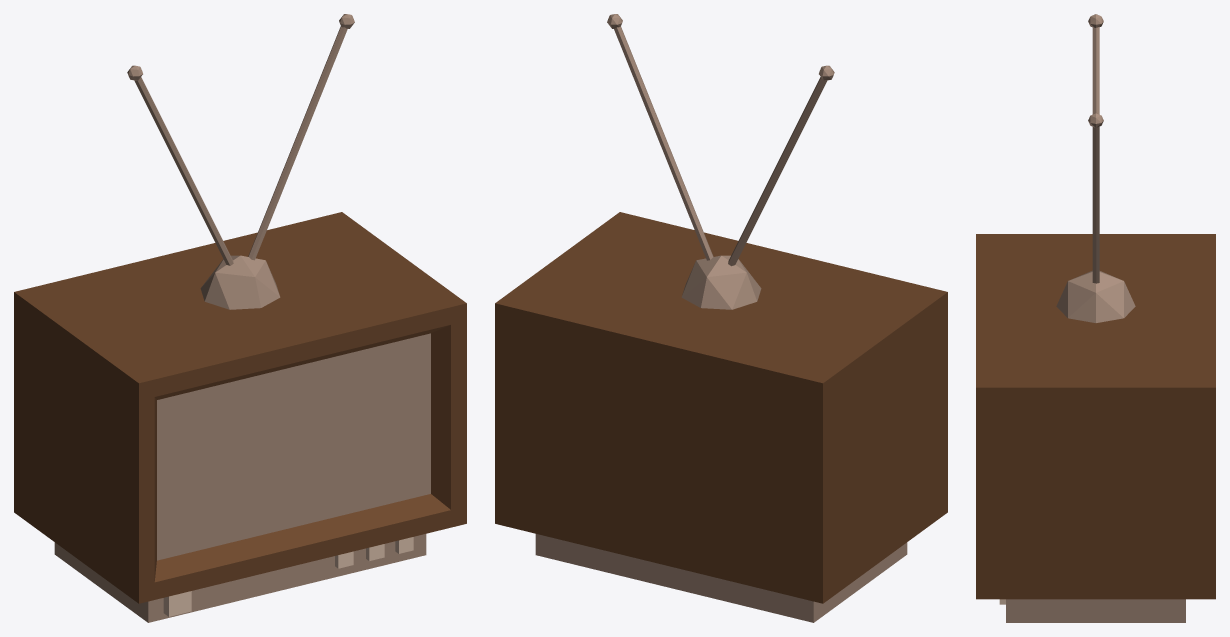
3 views of the same model, side by side, from view 1: azimuth 30°, elevation 25°; view 2: azimuth 150°, elevation 25°; view 3: azimuth 270°, elevation 25° (orthographic). The views are drawn at different scales.
Parts seen in each view (by area): view 1: TV; view 2: TV; view 3: TV.
Part boxes in pixels (x1,y1,x2,y2): TV: (14,14,466,622); TV: (495,14,947,622); TV: (976,14,1215,622).
Size of the model in its own units: 45.8 by 68.69 by 30.2.
Materials: 1 (1 with a texture image).
